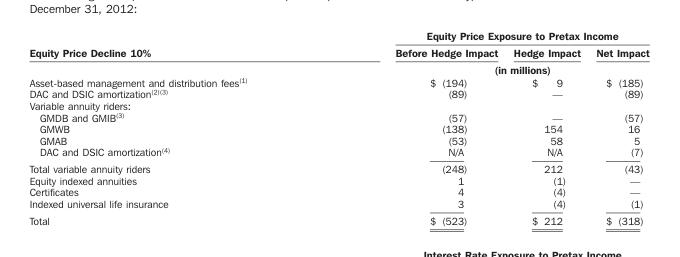table: (28, 28, 648, 226)
table column: (28, 28, 320, 226), (320, 28, 505, 226), (505, 28, 587, 226), (587, 28, 648, 226)
table column header: (28, 28, 648, 75)
table projected row header: (28, 99, 648, 110)
table row: (28, 43, 648, 60), (28, 28, 648, 43), (28, 60, 648, 75), (28, 145, 648, 160), (28, 211, 648, 226), (28, 160, 648, 174), (28, 197, 648, 211), (28, 75, 648, 87), (28, 87, 648, 99), (28, 110, 648, 122), (28, 122, 648, 134), (28, 185, 648, 197), (28, 99, 648, 110), (28, 134, 648, 145), (28, 174, 648, 185)
table spanning cell: (28, 28, 320, 75), (320, 28, 648, 43), (320, 60, 648, 75)
